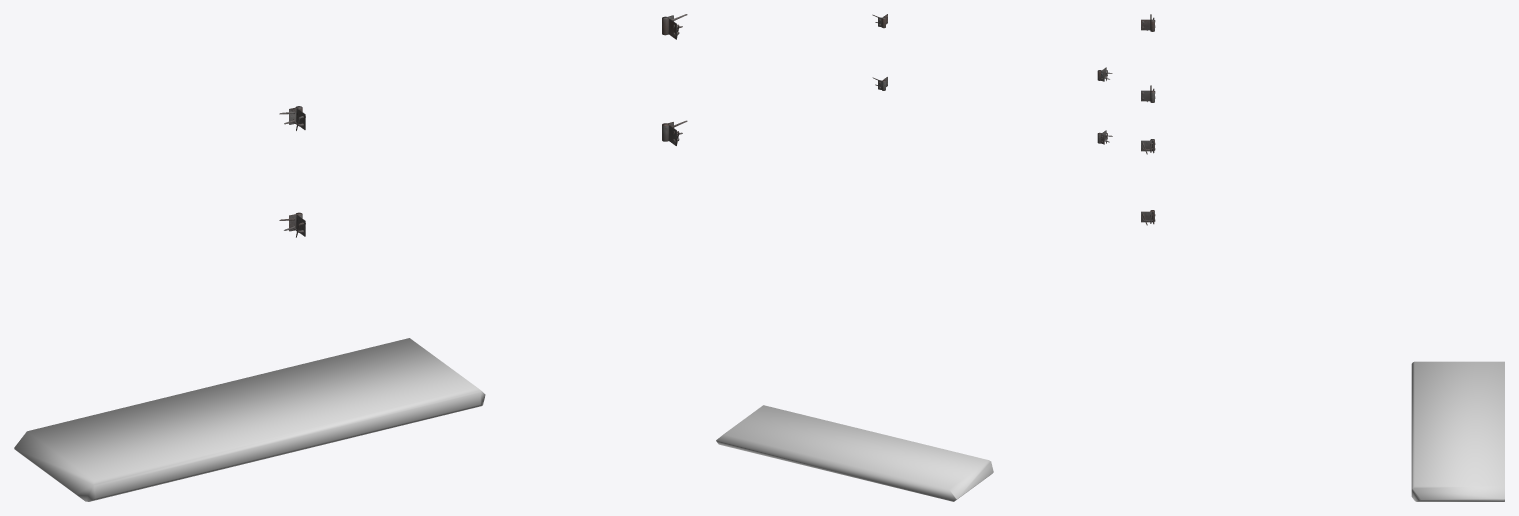
Rendered from SM_Wall_Window_A_P2_.fbx.
3 renders of one model, left to right at view 1: azimuth 30°, elevation 25°; view 2: azimuth 150°, elevation 25°; view 3: azimuth 270°, elevation 25°, orthographic. The views are drawn at different scales.
Visible parts, largest first — view 1: SM_Wall_Window_A_P2__ConvexHulls, SM_Wall_Window_A_P2_; view 2: SM_Wall_Window_A_P2__ConvexHulls, SM_Wall_Window_A_P2_; view 3: SM_Wall_Window_A_P2__ConvexHulls, SM_Wall_Window_A_P2_.
Boxes of the visible parts, left/top/right/bottom form: SM_Wall_Window_A_P2__ConvexHulls: left=14, top=338, right=485, bottom=501; SM_Wall_Window_A_P2_: left=279, top=14, right=687, bottom=237; SM_Wall_Window_A_P2__ConvexHulls: left=716, top=405, right=993, bottom=501; SM_Wall_Window_A_P2_: left=872, top=14, right=1112, bottom=144; SM_Wall_Window_A_P2__ConvexHulls: left=1411, top=361, right=1504, bottom=501; SM_Wall_Window_A_P2_: left=1141, top=14, right=1155, bottom=225.
Size of the model in its own units: 1.96 by 2.45 by 2.26.
